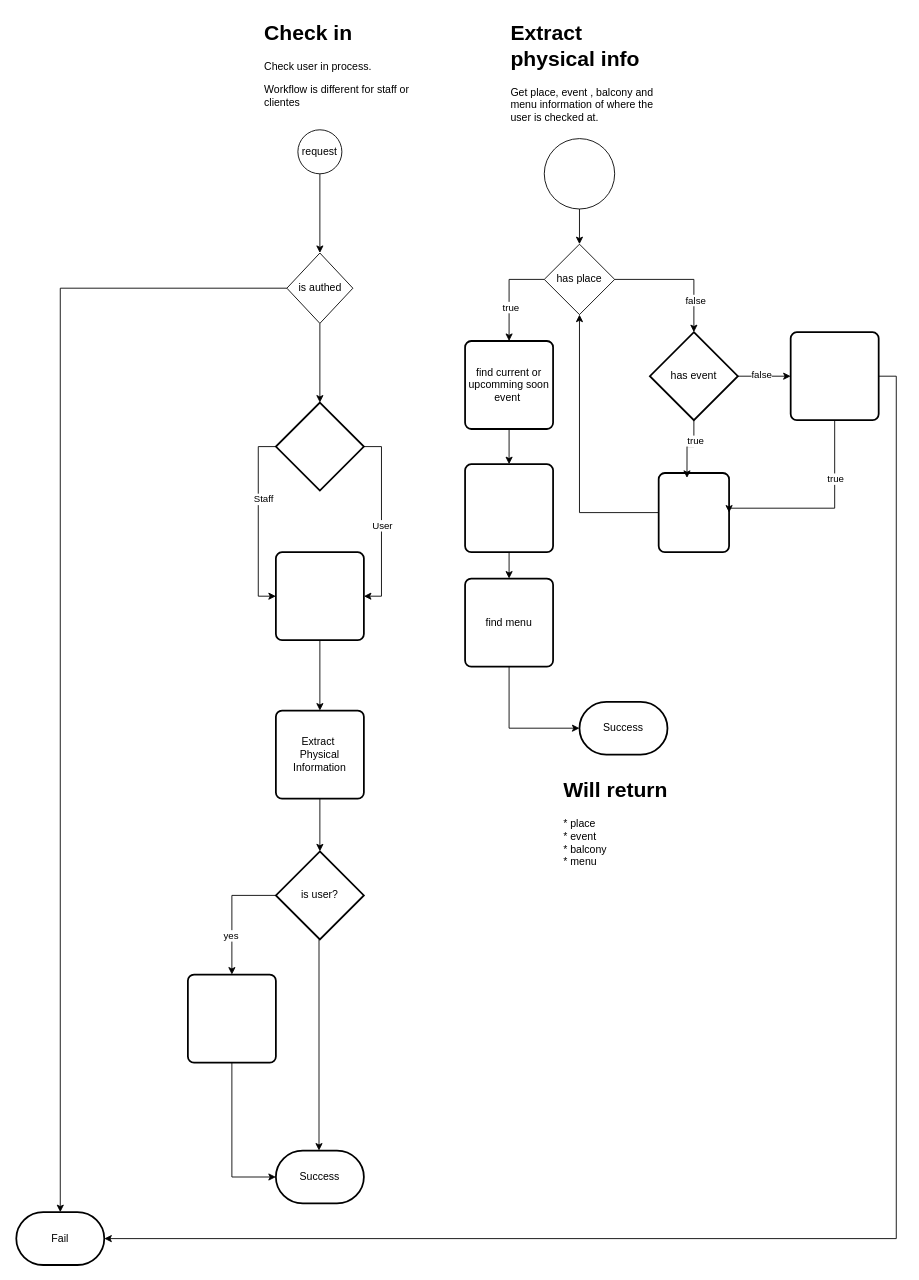
Some shapes in this 919 by 1280 pixel diagram are drawn without their labels. Each missing label, with the centre of its shape:
"Complete previous check ins" goes at [319,596].
"Find balcony and menu" goes at [509,508].
"find place" goes at [693,512].
"Find session orders and cart" goes at [231,1018].
"has balcony" goes at [834,376].
"Role" goes at [319,446].
